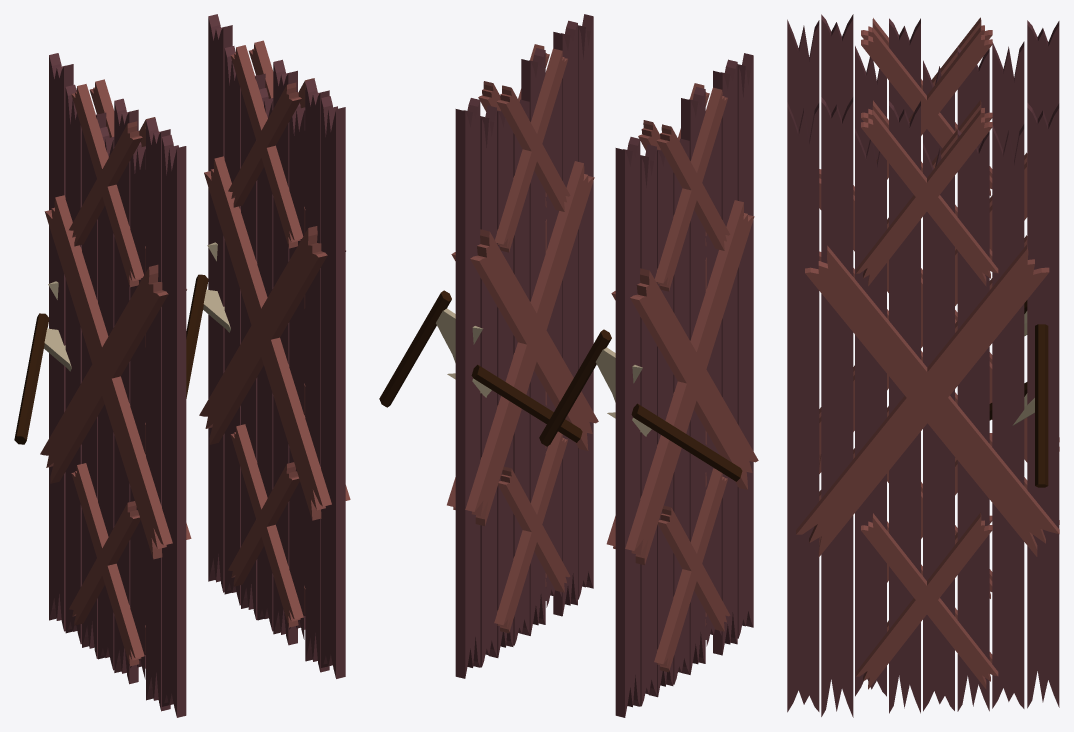
Rendered from Axe Door V2.glb.
The picture shows the model from 3 angles, left to right: view 1: azimuth 30°, elevation 25°; view 2: azimuth 150°, elevation 25°; view 3: azimuth 270°, elevation 25°; orthographic projection. The views are drawn at different scales.
Parts seen in each view (by area): view 1: Door.002, Door.001; view 2: Door.002, Door.001; view 3: Door.001, Door.002.
Part boxes in pixels (x1,y1,x2,y2): Door.002: [14, 53, 191, 717]; Door.001: [186, 14, 350, 678]; Door.002: [539, 53, 758, 717]; Door.001: [379, 14, 598, 678]; Door.001: [787, 97, 1059, 717]; Door.002: [787, 14, 1059, 598].
Size of the model in its own units: 1.11 by 1.88 by 0.7509.
